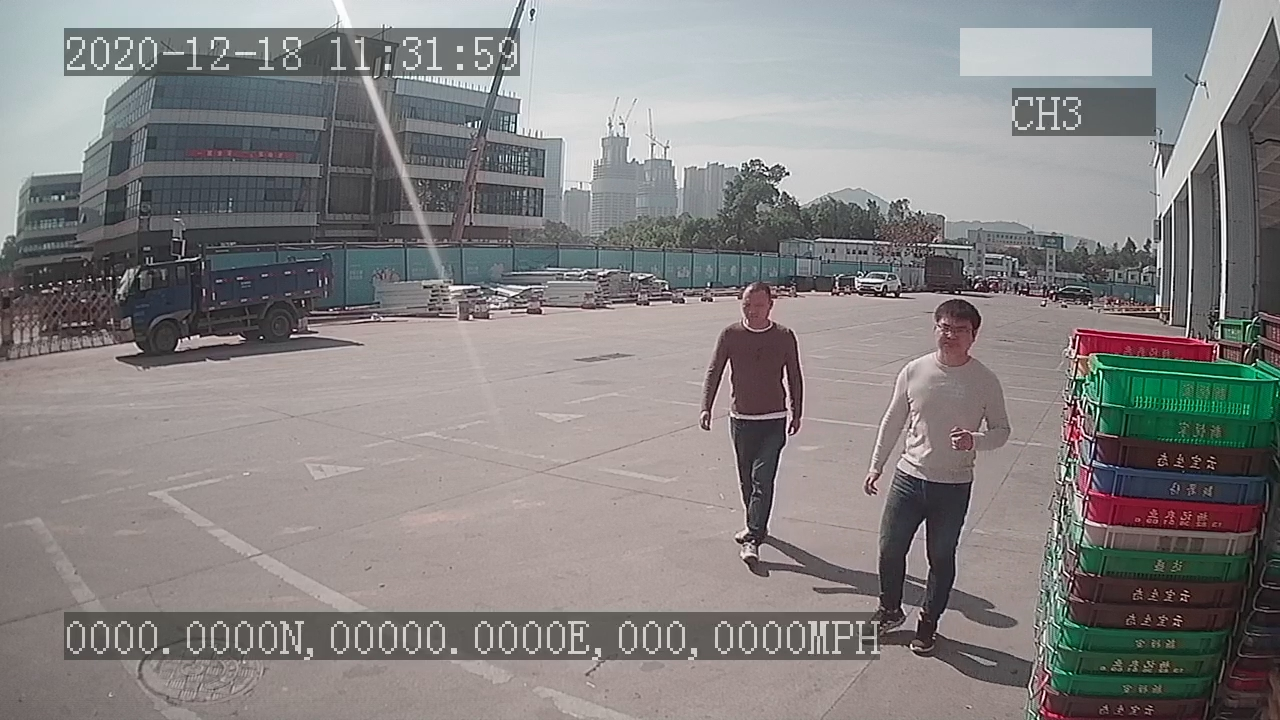person: (701, 280, 802, 567)
